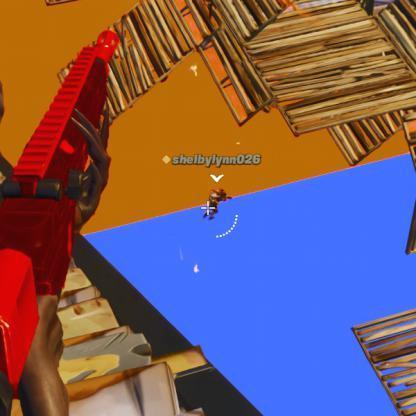person: (211, 180, 231, 221)
